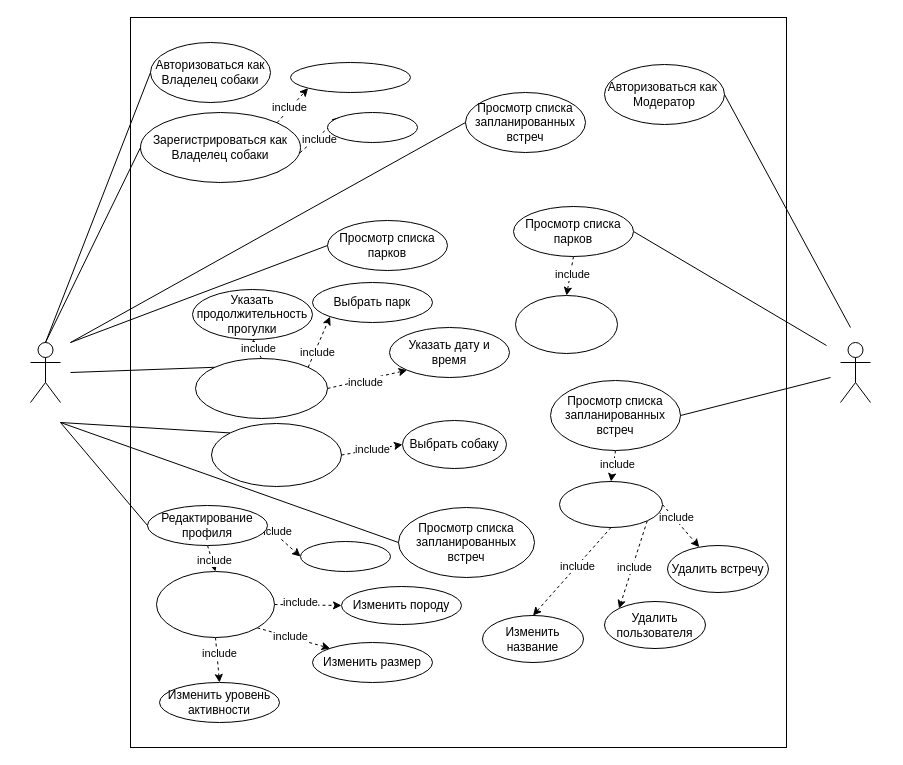
The diagram is 903 pixels wide and 765 high, and some of its shapes have lost their labels. The centre of each missing label's shape, as x and y in pixels:
"Владелец собаки" belongs at (45,372).
"Добавить / Изменить собаку" belongs at (215,604).
"Изменить список парков" belongs at (566,324).
"Изменить ФИО" belongs at (345,556).
"Модератор" belongs at (855,372).
"Присоединиться к встрече как владелец собак" belongs at (276,454).
"Редактировать встречу" belongs at (610,504).
"Создание встречи для прогулки" belongs at (261,388).
"Создать логин" belongs at (350,77).
"Создать ФИО" belongs at (372,127).
